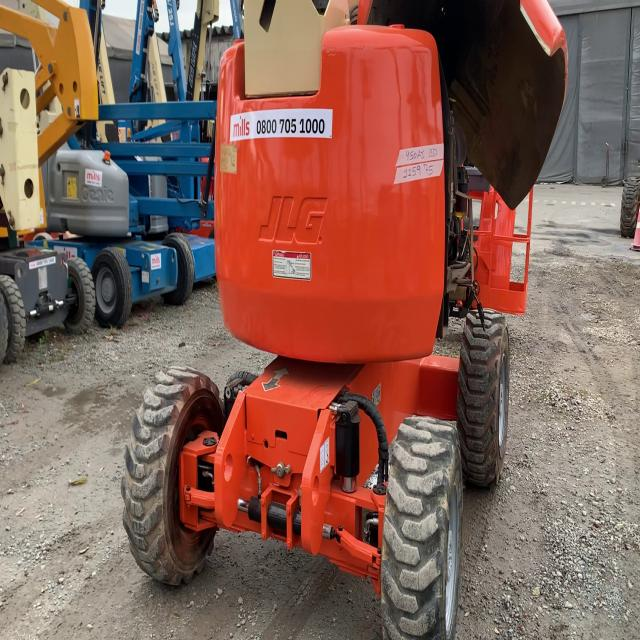Adesivo Longo: (228, 105, 334, 143)
Adesivos: (84, 167, 103, 188), (150, 253, 162, 271)
